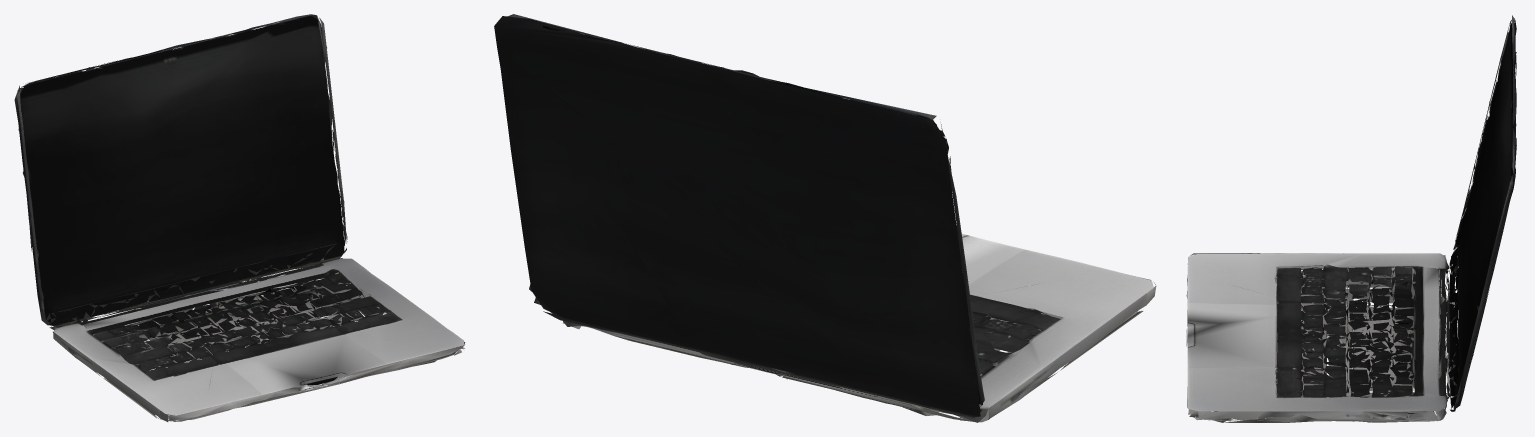
The model's file is laptop.glb.
3 renders of one model, left to right at view 1: azimuth 30°, elevation 25°; view 2: azimuth 150°, elevation 25°; view 3: azimuth 270°, elevation 25°, orthographic. The views are drawn at different scales.
Visible parts, largest first — view 1: 06-laptop; view 2: 06-laptop; view 3: 06-laptop.
Part boxes in pixels (x1,y1,x2,y2): 06-laptop: (14, 14, 465, 421); 06-laptop: (494, 14, 1156, 422); 06-laptop: (1186, 15, 1516, 422).
Bounding box in the file's own units: 0.3324 × 0.2478 × 0.2882.
Materials: 1 (1 with a texture image).
